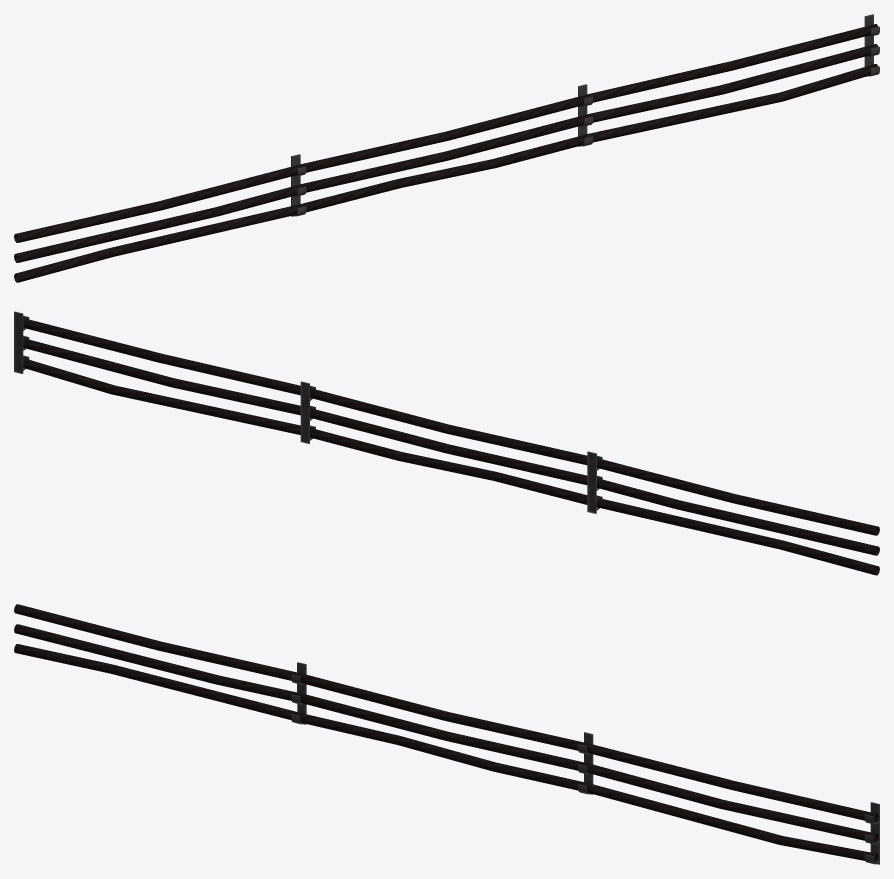
The model's file is Cables_3m.fbx.
3 views of the same model, one above another, from view 1: azimuth 30°, elevation 25°; view 2: azimuth 150°, elevation 25°; view 3: azimuth 330°, elevation 25° (orthographic).
Parts seen in each view (by area): view 1: Cables_3m; view 2: Cables_3m; view 3: Cables_3m.
Part boxes in pixels (<box>): Cables_3m: <box>14,14,879,282</box>; Cables_3m: <box>14,311,879,575</box>; Cables_3m: <box>14,604,879,864</box>.
Size of the model in its own units: 300 by 20.52 by 4.06.
